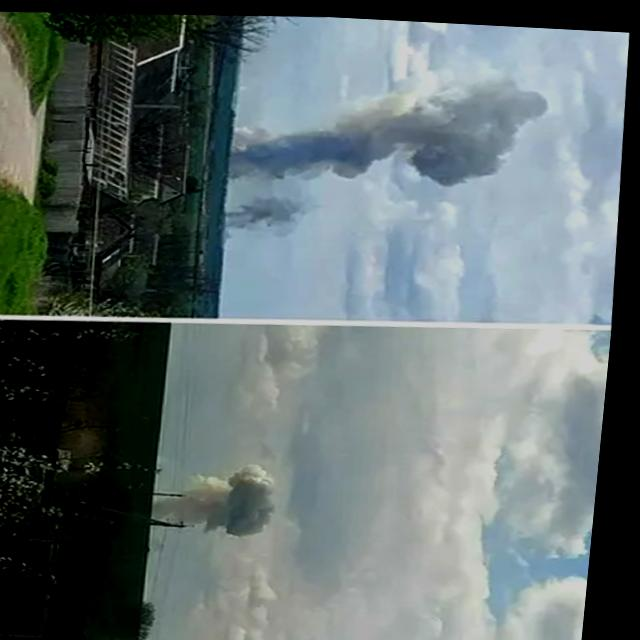Smoke: (229, 59, 553, 191), (159, 458, 285, 537), (228, 187, 313, 236)
